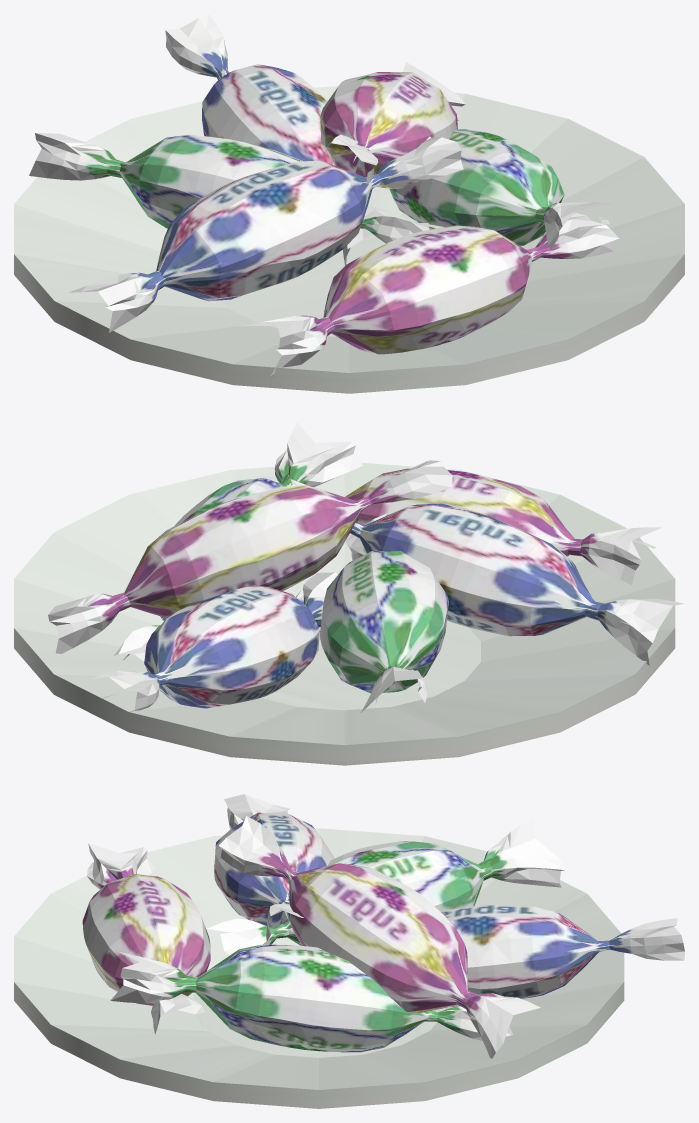
Rendered from APlateOfSweets.glb.
3 views of the same model, one above another, from view 1: azimuth 30°, elevation 25°; view 2: azimuth 150°, elevation 25°; view 3: azimuth 270°, elevation 25° (orthographic). The views are drawn at different scales.
Visible parts, largest first — view 1: APlateOfSweets; view 2: APlateOfSweets; view 3: APlateOfSweets.
Part boxes in pixels (x1,y1,x2,y2): APlateOfSweets: (14, 14, 684, 393); APlateOfSweets: (14, 422, 684, 765); APlateOfSweets: (14, 794, 684, 1108).
Size of the model in its own units: 0.00911 by 0.00313 by 0.00983.
Materials: 1 (1 with a texture image).
